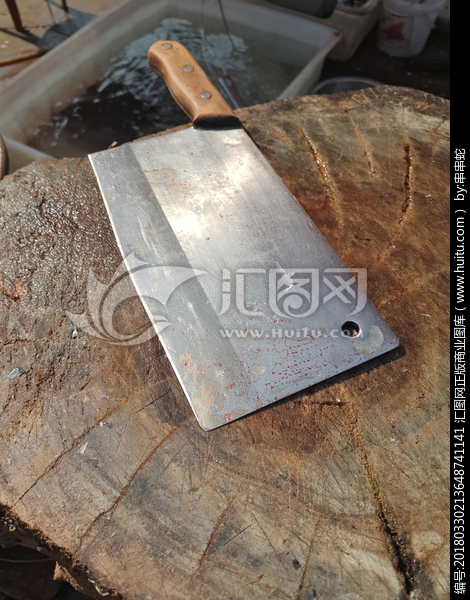knief: (73, 61, 417, 395)
